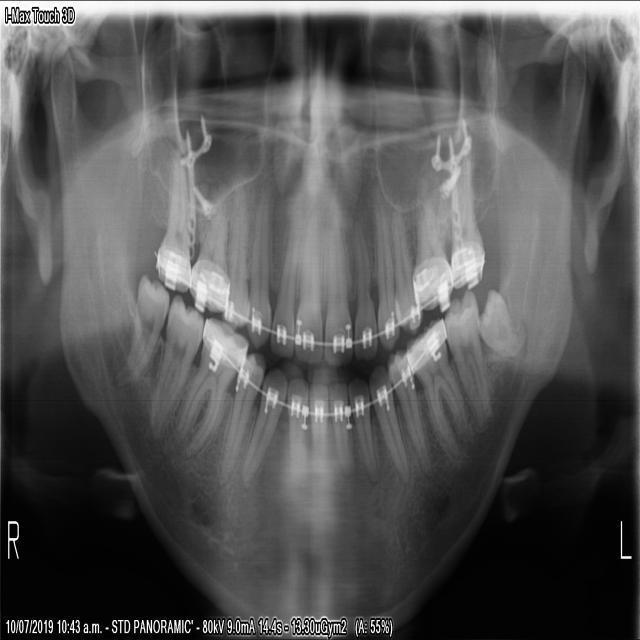LCD: (367, 361, 410, 485)
LID: (346, 371, 379, 478), (329, 380, 354, 475)
LIU: (321, 210, 354, 368), (351, 215, 377, 361)
LMD: (406, 314, 471, 465), (446, 284, 494, 427), (479, 286, 519, 358)
LMU: (413, 171, 454, 309), (448, 146, 484, 289)
LPMU: (389, 199, 423, 336), (373, 194, 400, 352)
RCD: (238, 365, 285, 489)
RID: (285, 374, 307, 486), (308, 380, 328, 477)
RIU: (267, 203, 302, 359), (292, 207, 323, 365)
RMD: (173, 314, 247, 460), (144, 295, 203, 436), (120, 269, 168, 385)
RMU: (186, 182, 230, 316), (153, 147, 190, 294)
RPMD: (215, 349, 265, 484), (385, 344, 434, 473)
RPMU: (243, 181, 270, 351), (220, 182, 249, 328)
